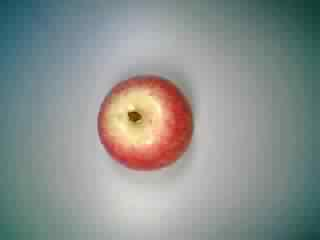apple: (89, 68, 193, 172)
